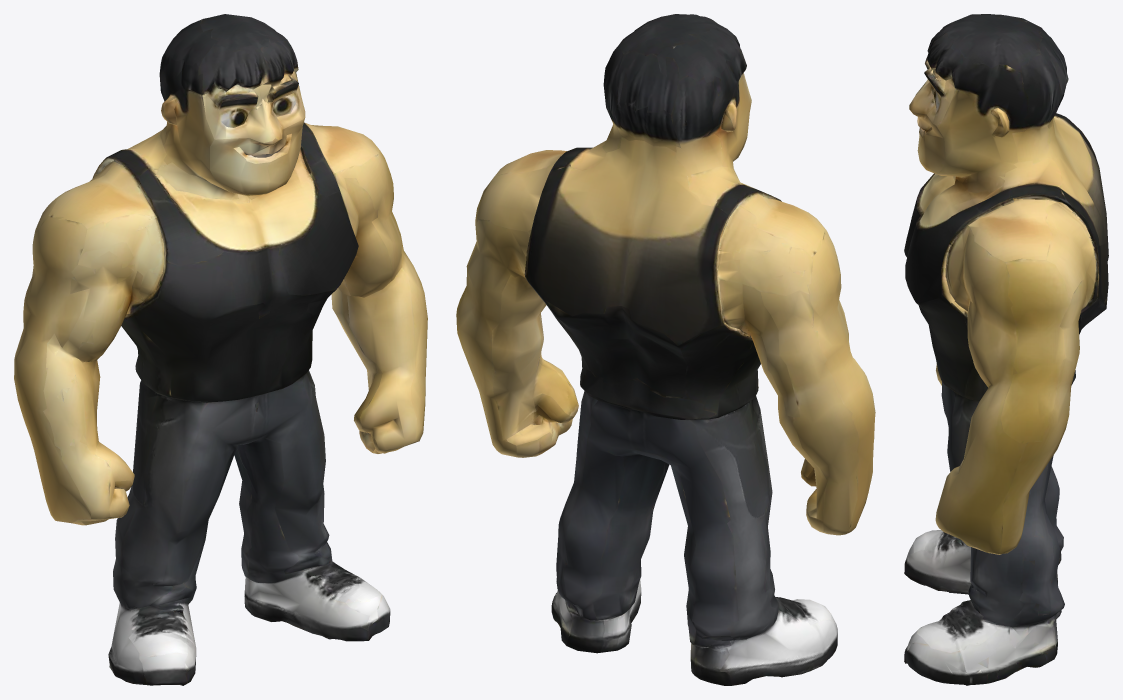
Rendered from naiwa_xigema_runtime.glb.
3 renders of one model, left to right at view 1: azimuth 30°, elevation 25°; view 2: azimuth 150°, elevation 25°; view 3: azimuth 270°, elevation 25°, orthographic. The views are drawn at different scales.
Visible parts, largest first — view 1: geometry_0; view 2: geometry_0; view 3: geometry_0.
Part boxes in pixels (x1,y1,x2,y2): geometry_0: (14,14,427,685); geometry_0: (456,14,875,685); geometry_0: (904,14,1108,685).
Bounding box in the file's own units: 0.1357 × 0.1999 × 0.0618.
1 material, 1 textured.
